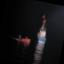fishing boat: (32, 10, 53, 48)
